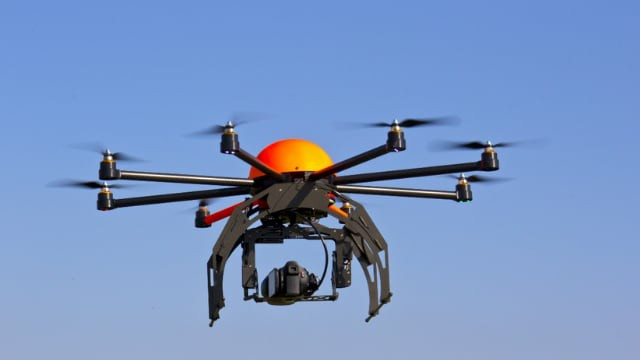maybay_khongnguoilai: (53, 110, 509, 326)
